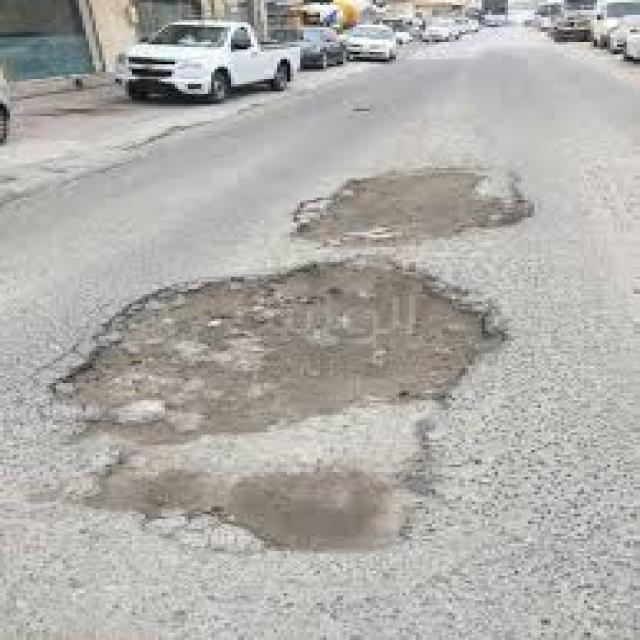p8: (56, 171, 528, 546)
